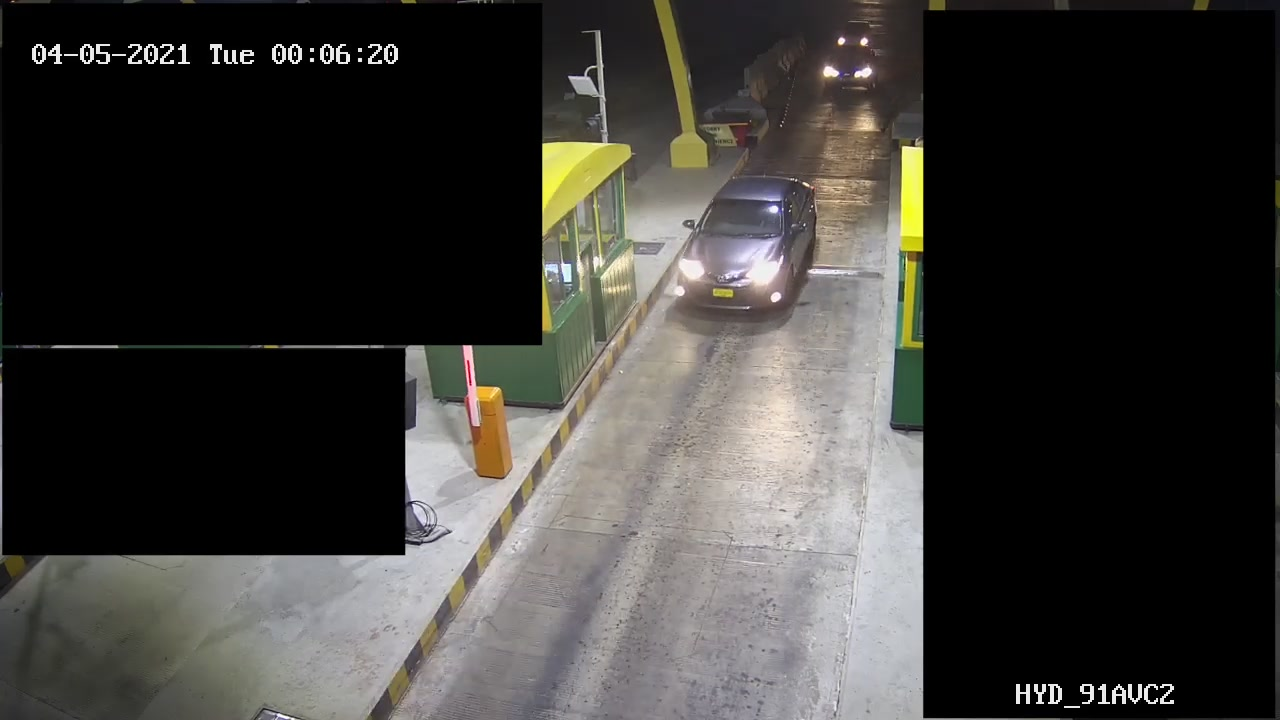F1: (676, 167, 823, 322)
